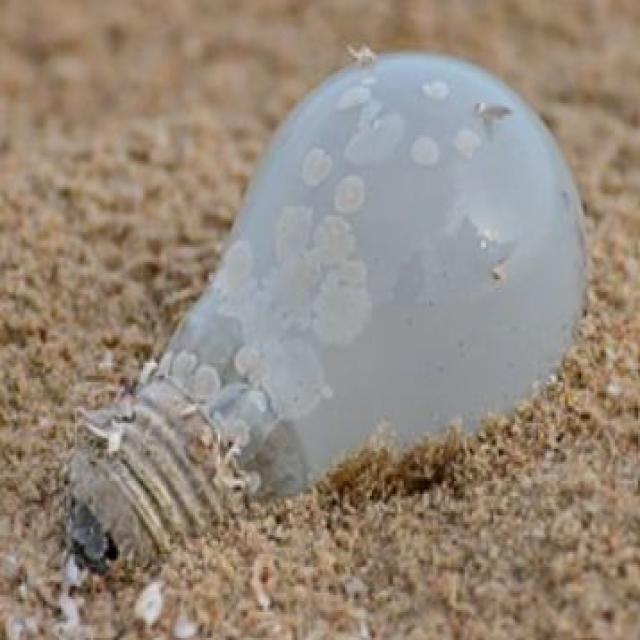electronic: (63, 43, 590, 576)
